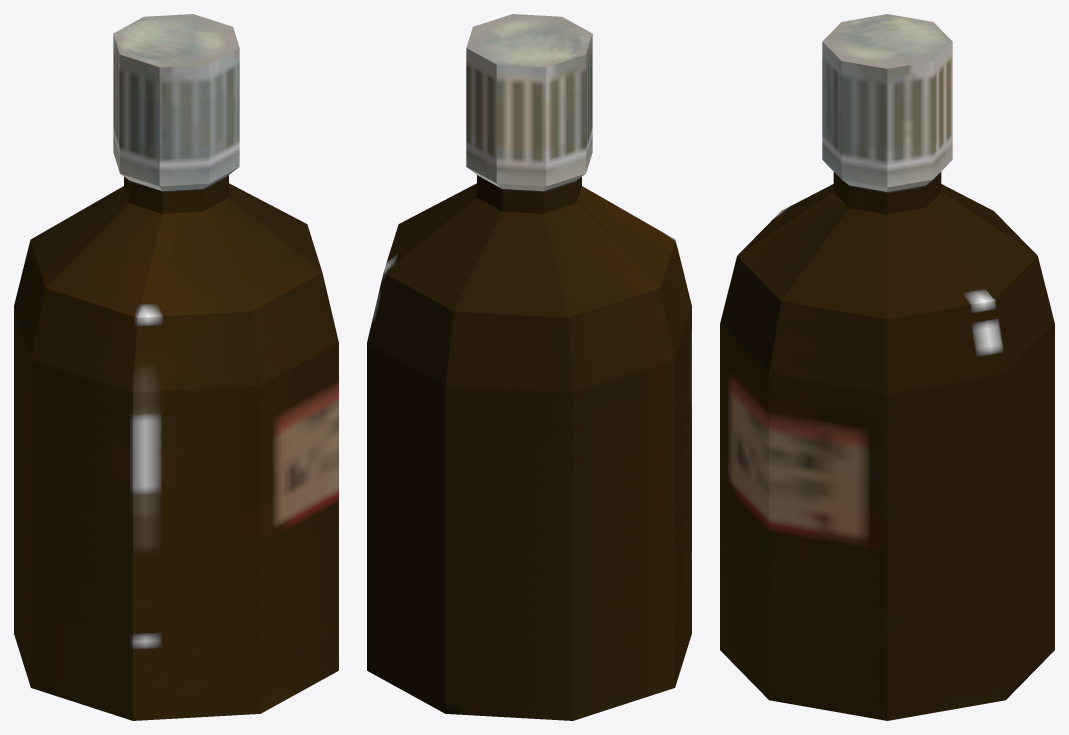
Rendered from jar_large_6.fbx.
3 views of the same model, side by side, from view 1: azimuth 30°, elevation 25°; view 2: azimuth 150°, elevation 25°; view 3: azimuth 270°, elevation 25° (orthographic).
Visible parts, largest first — view 1: mesh_0; view 2: mesh_0; view 3: mesh_0.
Part boxes in pixels (bbox=[...]): mesh_0: bbox=[14, 14, 338, 720]; mesh_0: bbox=[367, 14, 691, 720]; mesh_0: bbox=[720, 14, 1054, 720].
Size of the model in its own units: 14.95 by 30 by 14.95.
1 material, 1 textured.
